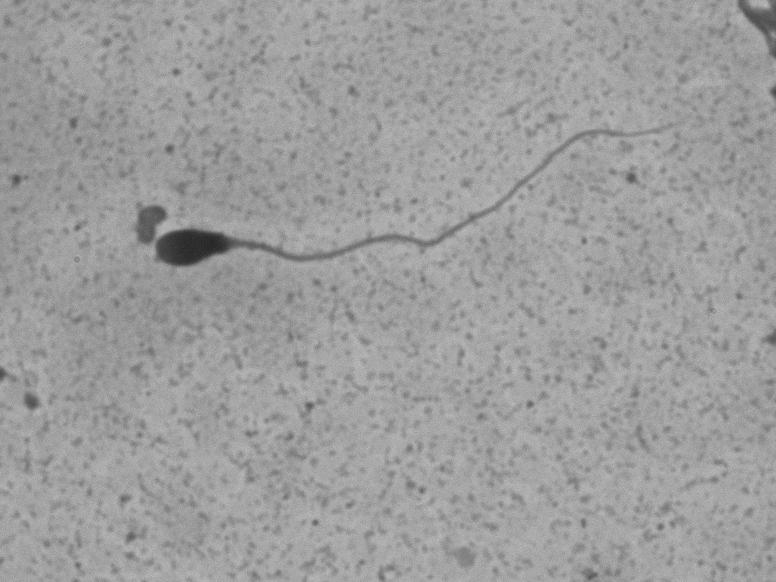Abnormal: (152, 117, 688, 330)
